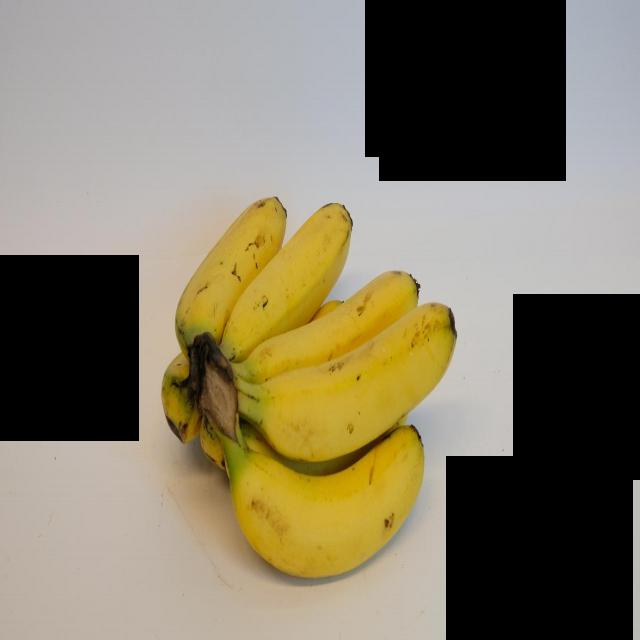banana: (235, 288, 458, 478), (222, 422, 428, 586), (224, 262, 460, 403), (219, 187, 366, 369), (172, 188, 294, 364)
